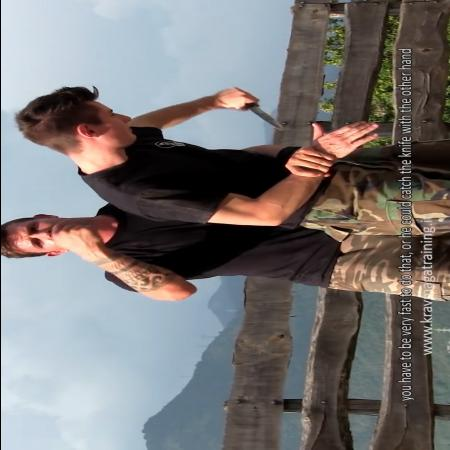long weapon: (218, 84, 288, 134)
